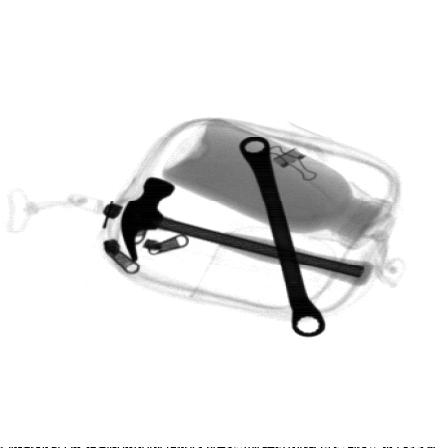Hammer: (121, 177, 374, 287)
Wrench: (239, 136, 325, 338)
